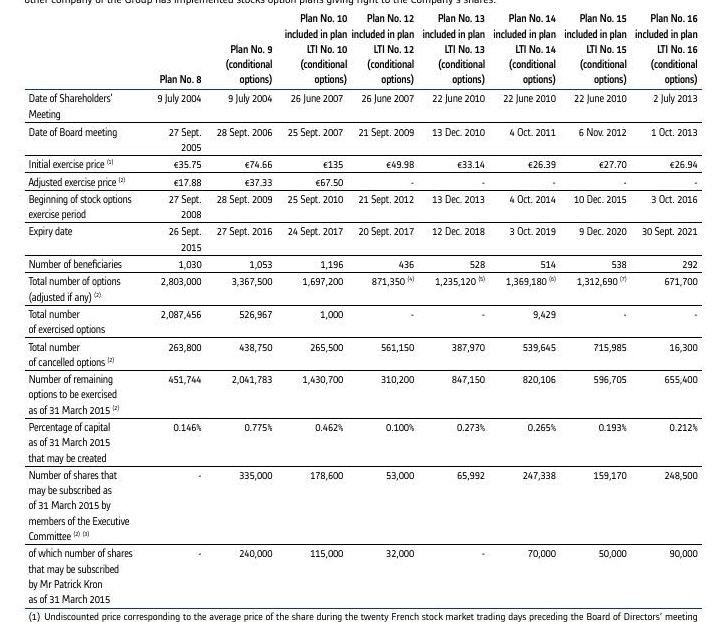table: (0, 0, 720, 622)
